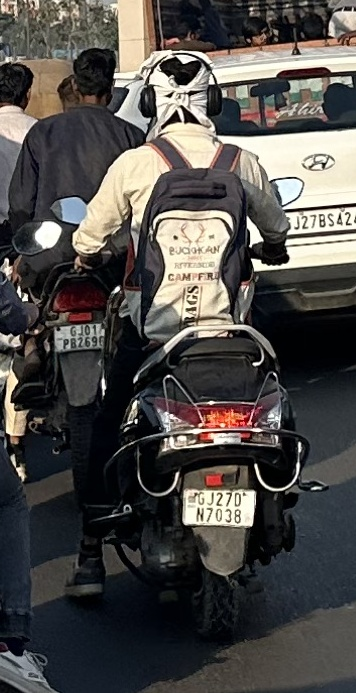BikeWithRider: (61, 49, 338, 654), (0, 41, 157, 508)
NoHelmet: (132, 49, 232, 133), (64, 44, 128, 108)
